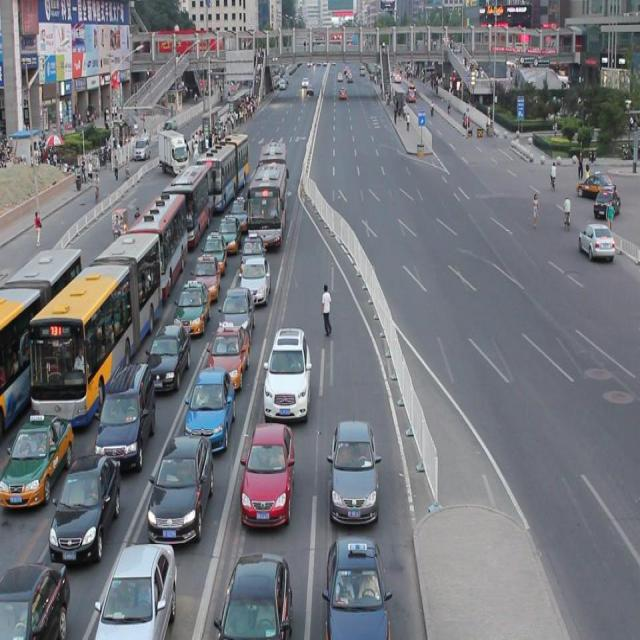bus: (158, 130, 188, 176)
car: (50, 454, 120, 564), (96, 544, 176, 640), (323, 539, 392, 640), (149, 440, 214, 546), (0, 412, 72, 507), (217, 553, 292, 640), (96, 365, 156, 471), (327, 421, 380, 525), (240, 427, 294, 526), (1, 563, 69, 640), (264, 328, 311, 421), (187, 371, 235, 452), (207, 323, 249, 392), (148, 323, 191, 390), (219, 288, 255, 344), (174, 281, 211, 335), (238, 259, 270, 305), (575, 168, 616, 200), (192, 256, 220, 302), (577, 225, 613, 259), (200, 232, 227, 275), (240, 233, 265, 275), (215, 216, 241, 253), (592, 185, 619, 218), (228, 197, 250, 233)
van: (23, 232, 162, 428), (1, 246, 82, 438), (127, 193, 188, 302), (195, 133, 247, 212), (163, 165, 211, 249), (248, 163, 288, 249), (259, 142, 288, 204)
